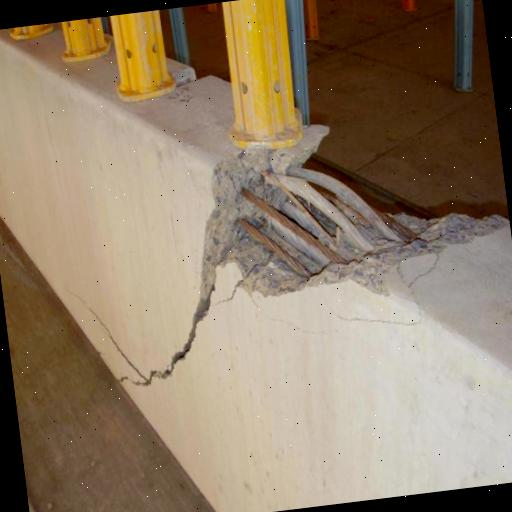spalling: (193, 125, 510, 322), (63, 285, 212, 395)
